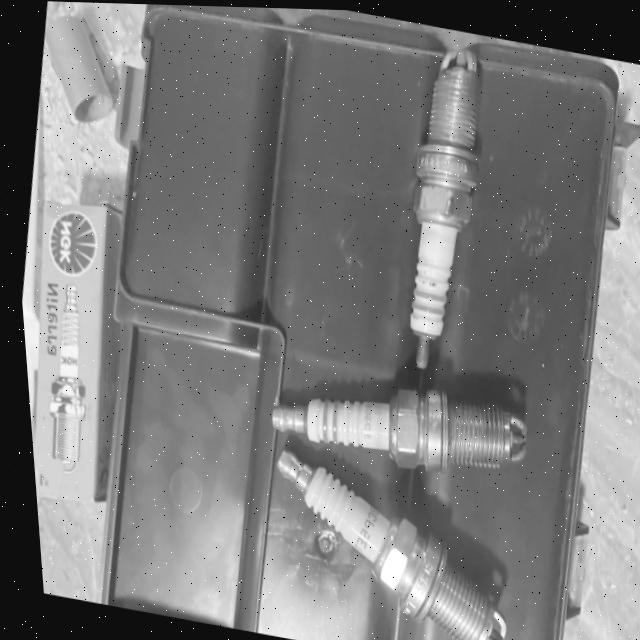spark-plug: (362, 35, 524, 381), (259, 435, 512, 640), (247, 345, 531, 490)
